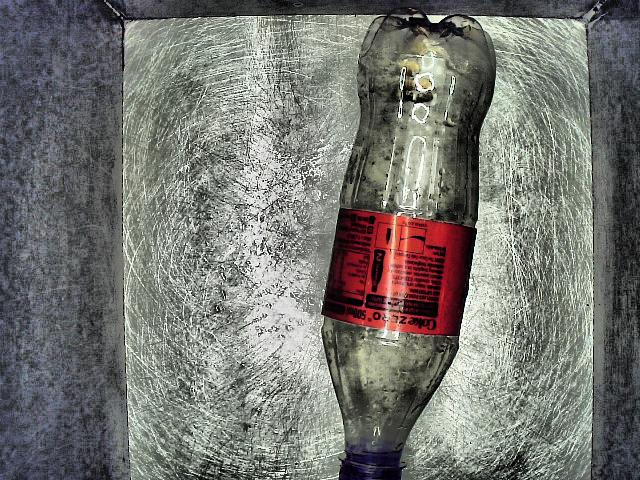Bottles: (304, 5, 512, 480)
